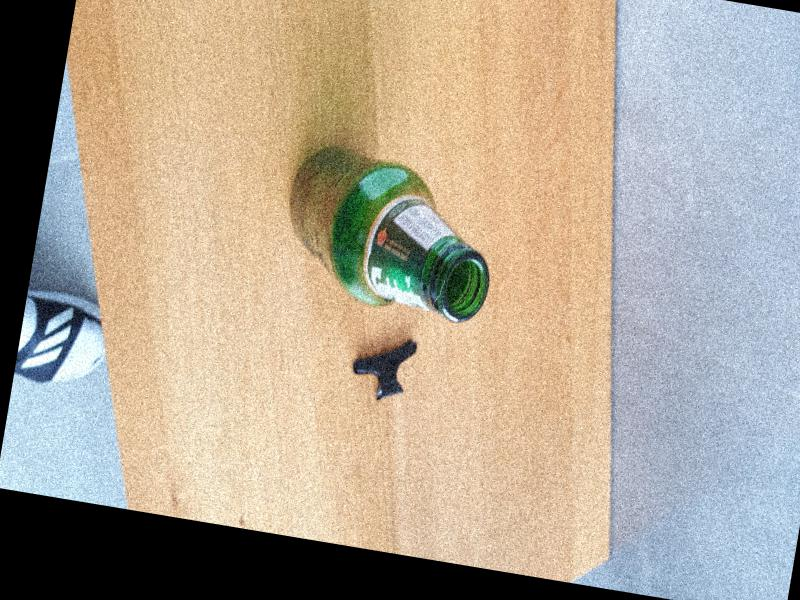Beer: (272, 139, 507, 327)
